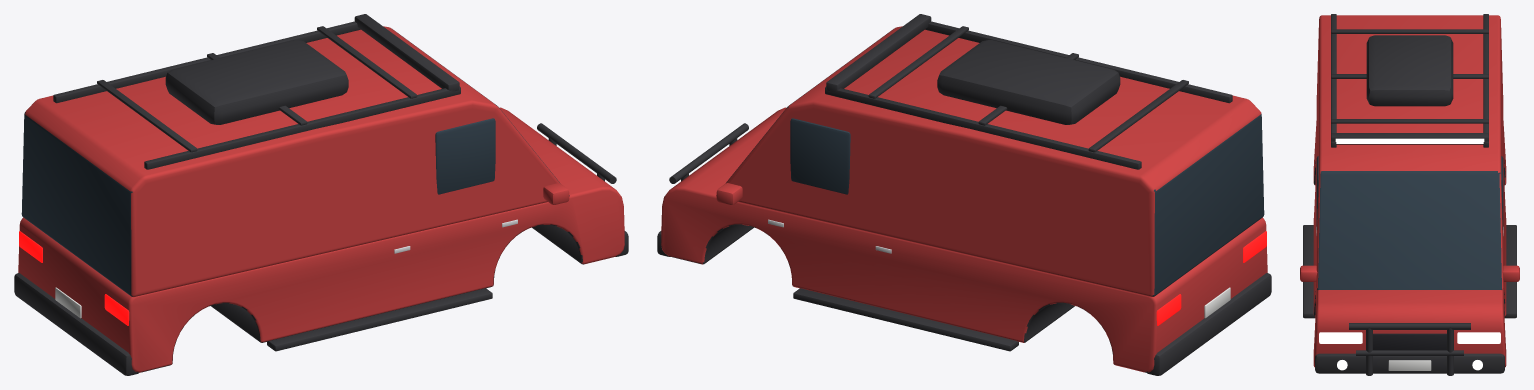
The model's file is van_furgao.glb.
3 renders of one model, left to right at view 1: azimuth 30°, elevation 25°; view 2: azimuth 150°, elevation 25°; view 3: azimuth 270°, elevation 25°, orthographic. The views are drawn at different scales.
Parts seen in each view (by area): view 1: cabine, carroceria, bagageiro, janela0, rack_trilho, parachoque_t, estribo, rack_trilho.001, led_suporte, rack_barra.002, rack_barra, qm_barra; view 2: cabine, carroceria, bagageiro, janela0, rack_trilho.001, parachoque_t, estribo.001, rack_trilho, led_suporte, rack_barra, rack_barra.002, qm_barra; view 3: cabine, carroceria, bagageiro, parachoque_d, grade, led_suporte, led_luz, estribo, estribo.001, qm_barra, rack_barra, rack_barra.002 (+12 smaller).
Boxes of the visible parts, box(x1,y1,x2,y2) form: cabine: box(21, 26, 569, 297); carroceria: box(18, 107, 624, 372); bagageiro: box(165, 40, 348, 124); janela0: box(435, 118, 495, 194); rack_trilho: box(144, 86, 460, 169); parachoque_t: box(14, 273, 139, 375); estribo: box(267, 288, 492, 351); rack_trilho.001: box(53, 21, 360, 103); led_suporte: box(354, 14, 459, 91); rack_barra.002: box(317, 26, 417, 98); rack_barra: box(97, 80, 197, 152); qm_barra: box(537, 123, 616, 183); cabine: box(716, 26, 1264, 296); carroceria: box(661, 107, 1267, 372); bagageiro: box(937, 40, 1120, 124); janela0: box(790, 118, 850, 194); rack_trilho.001: box(825, 86, 1141, 169); parachoque_t: box(1146, 273, 1271, 375); estribo.001: box(793, 288, 1018, 351); rack_trilho: box(925, 21, 1232, 103); led_suporte: box(826, 14, 931, 92); rack_barra: box(1088, 80, 1188, 152); rack_barra.002: box(868, 26, 968, 98); qm_barra: box(669, 123, 748, 183); cabine: box(1316, 15, 1503, 289); carroceria: box(1313, 121, 1506, 367); bagageiro: box(1366, 35, 1453, 106); parachoque_d: box(1315, 353, 1504, 373); grade: box(1373, 333, 1446, 350); led_suporte: box(1331, 133, 1488, 144); led_luz: box(1335, 138, 1484, 143); estribo: box(1303, 225, 1315, 318); estribo.001: box(1504, 225, 1516, 318); qm_barra: box(1349, 323, 1470, 329); rack_barra: box(1331, 29, 1488, 33); rack_barra.002: box(1331, 119, 1488, 123).
Size of the model in its own units: 5.14 by 2.15 by 2.28.
